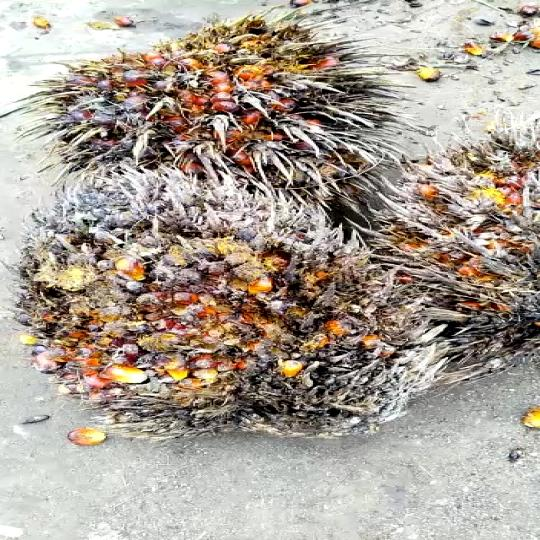terlalu masak: (29, 173, 447, 444), (17, 1, 407, 188)
